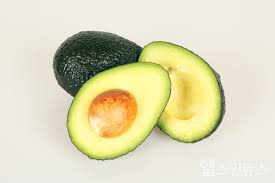avocado: (66, 62, 172, 160), (140, 41, 227, 143)
